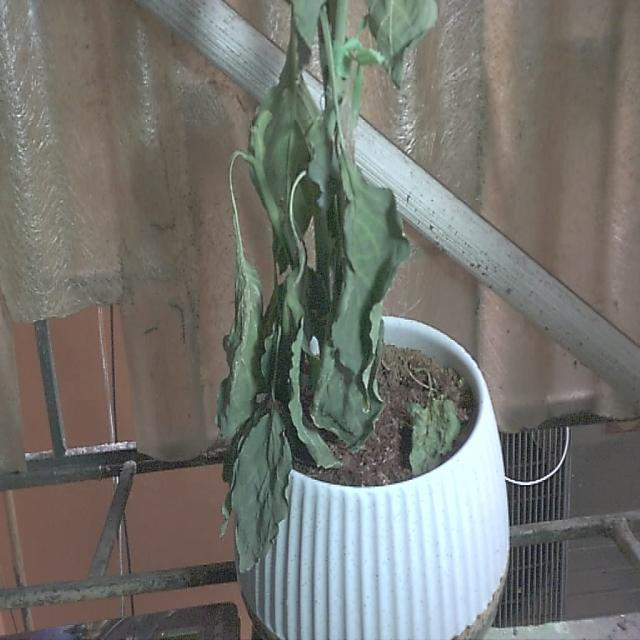Leaf: (329, 158, 410, 418), (225, 411, 290, 572), (214, 256, 263, 446)
